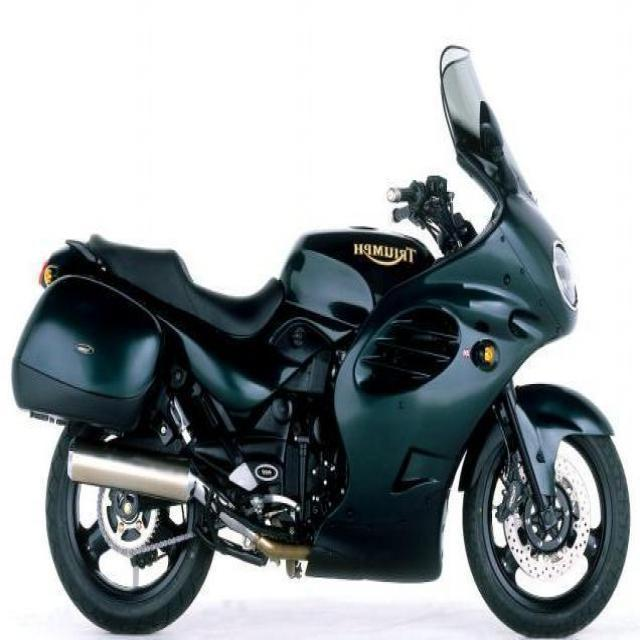Motorcycle: (32, 81, 635, 638)
